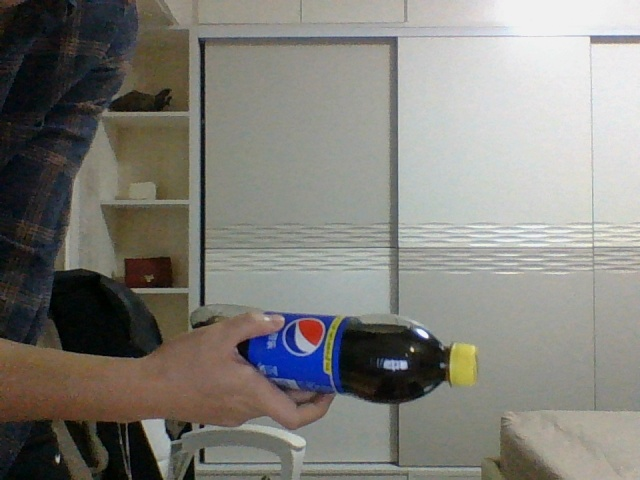Cola: (188, 304, 479, 406)
